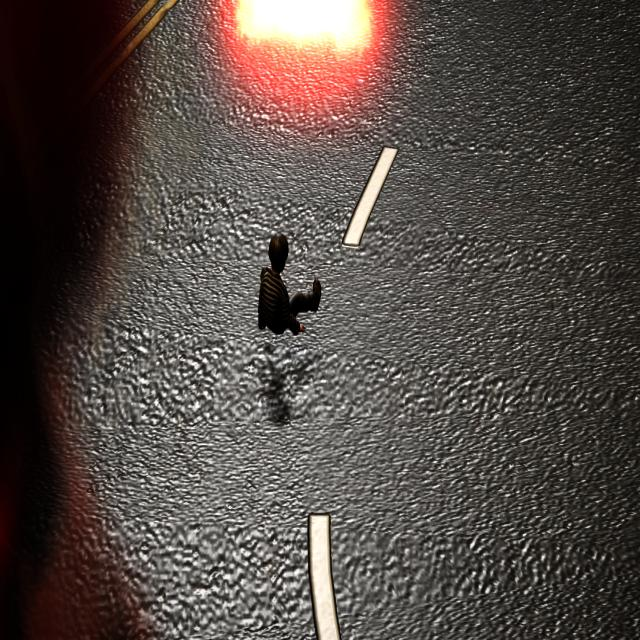Human: (252, 230, 326, 340)
